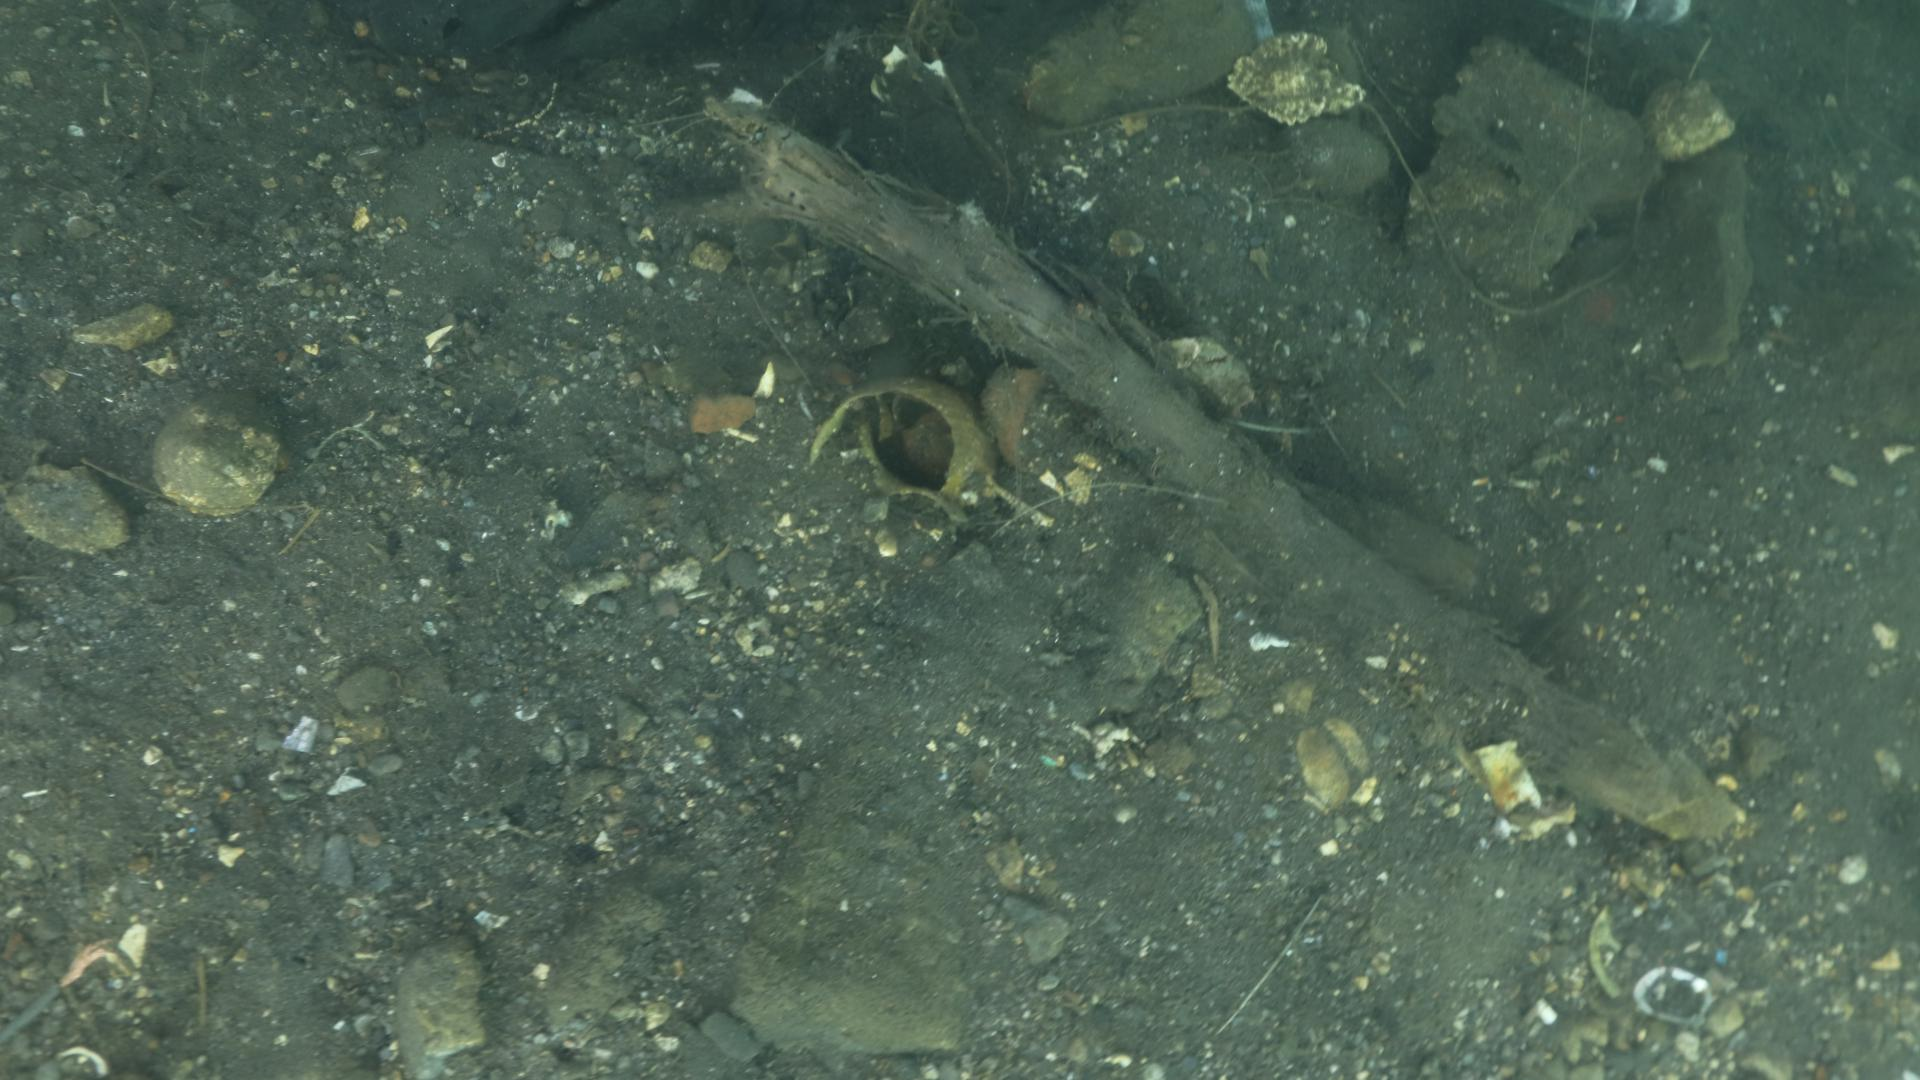wood: (752, 123, 1737, 837)
